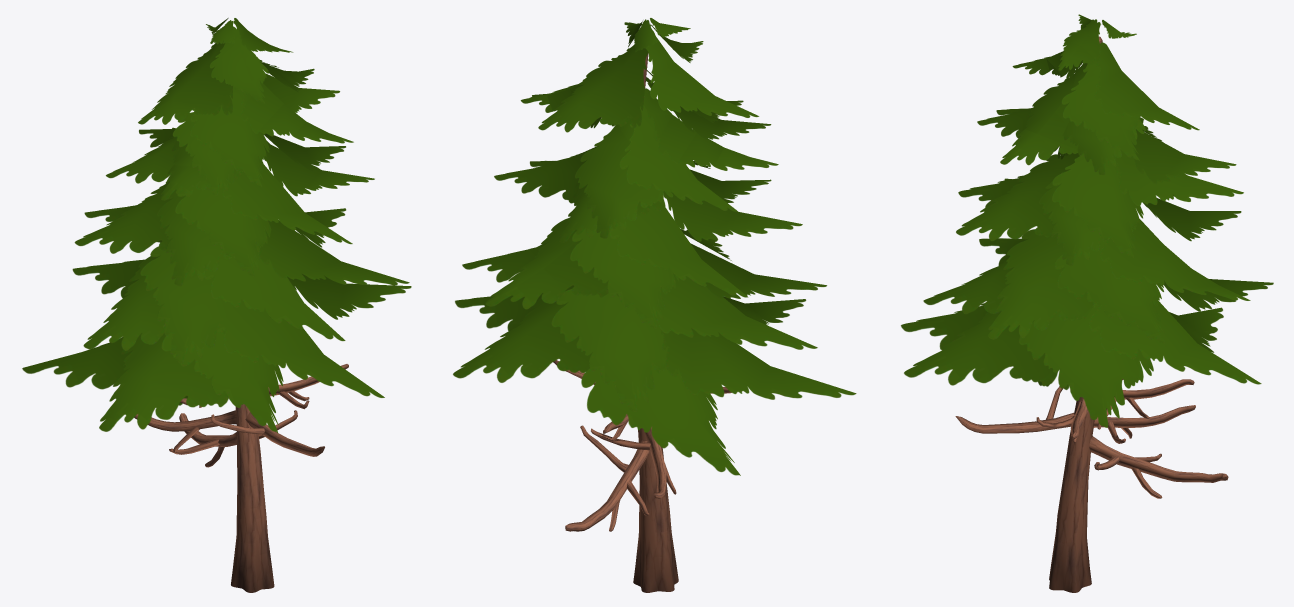
File: tree_fir_a.glb
The picture shows the model from 3 angles, left to right: view 1: azimuth 30°, elevation 25°; view 2: azimuth 150°, elevation 25°; view 3: azimuth 270°, elevation 25°; orthographic projection. The views are drawn at different scales.
Parts seen in each view (by area): view 1: Pine_1; view 2: Pine_1; view 3: Pine_1.
Part boxes in pixels (x1,y1,x2,y2): Pine_1: [22, 18, 411, 592]; Pine_1: [453, 18, 856, 592]; Pine_1: [901, 14, 1273, 592].
Bounding box in the file's own units: 4.94 × 7.32 × 4.54.
2 materials, 2 textured.
